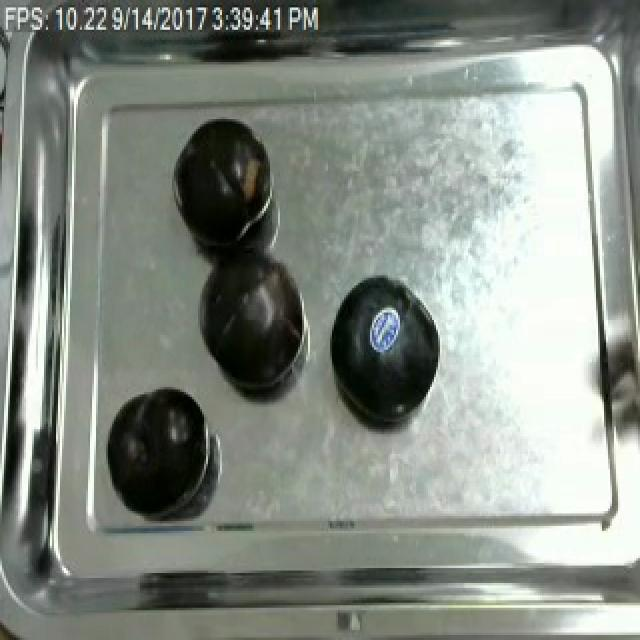Fruit: (324, 268, 444, 429), (194, 238, 308, 397), (168, 112, 272, 253), (104, 382, 212, 516)
